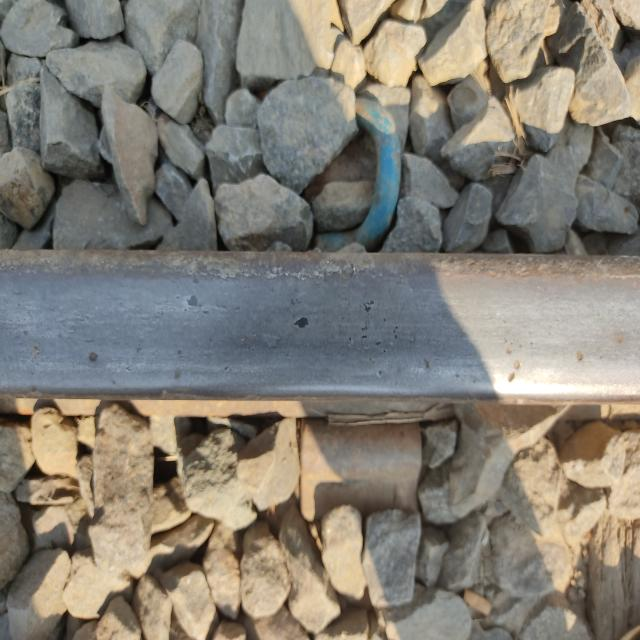Faults: (301, 421, 424, 504)
